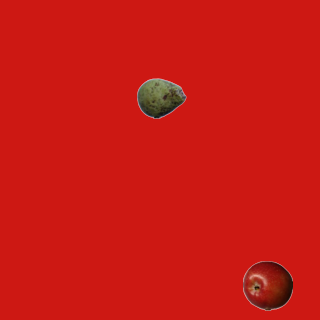Apple Braeburn: (242, 260, 292, 310)
Pear Stone: (136, 73, 186, 123)
